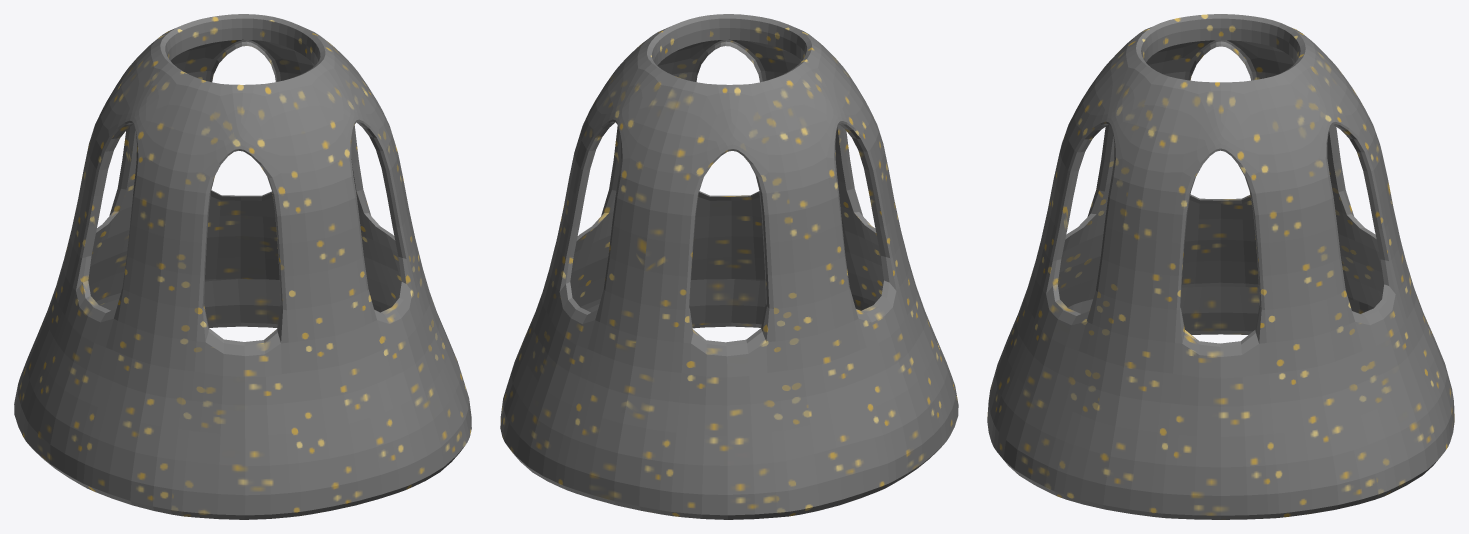
The model's file is BILLIE_03.glb.
The picture shows the model from 3 angles, left to right: view 1: azimuth 30°, elevation 25°; view 2: azimuth 150°, elevation 25°; view 3: azimuth 270°, elevation 25°; orthographic projection.
Parts seen in each view (by area): view 1: BILLLIE_03; view 2: BILLLIE_03; view 3: BILLLIE_03.
Boxes of the visible parts, x1,y1,x2,y2 form: BILLLIE_03: (14,14,471,519); BILLLIE_03: (500,14,958,519); BILLLIE_03: (987,14,1454,519).
Bounding box in the file's own units: 0.1149 × 0.1065 × 0.119.
Materials: 1 (1 with a texture image).
